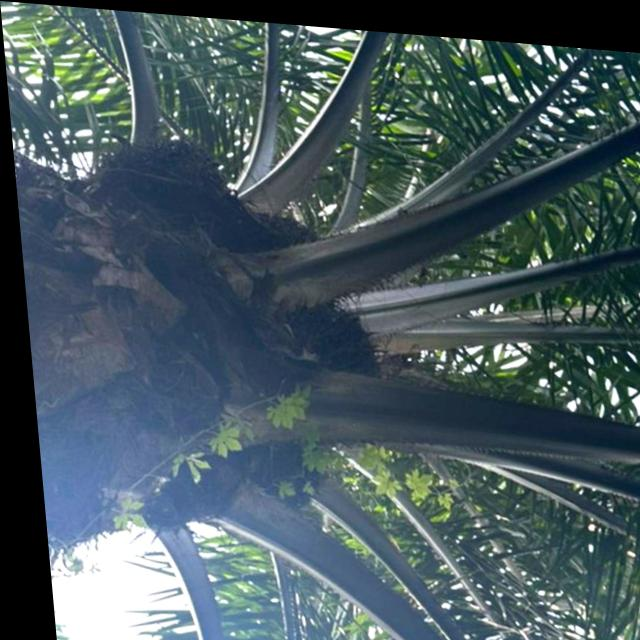almost: (273, 289, 382, 371)
